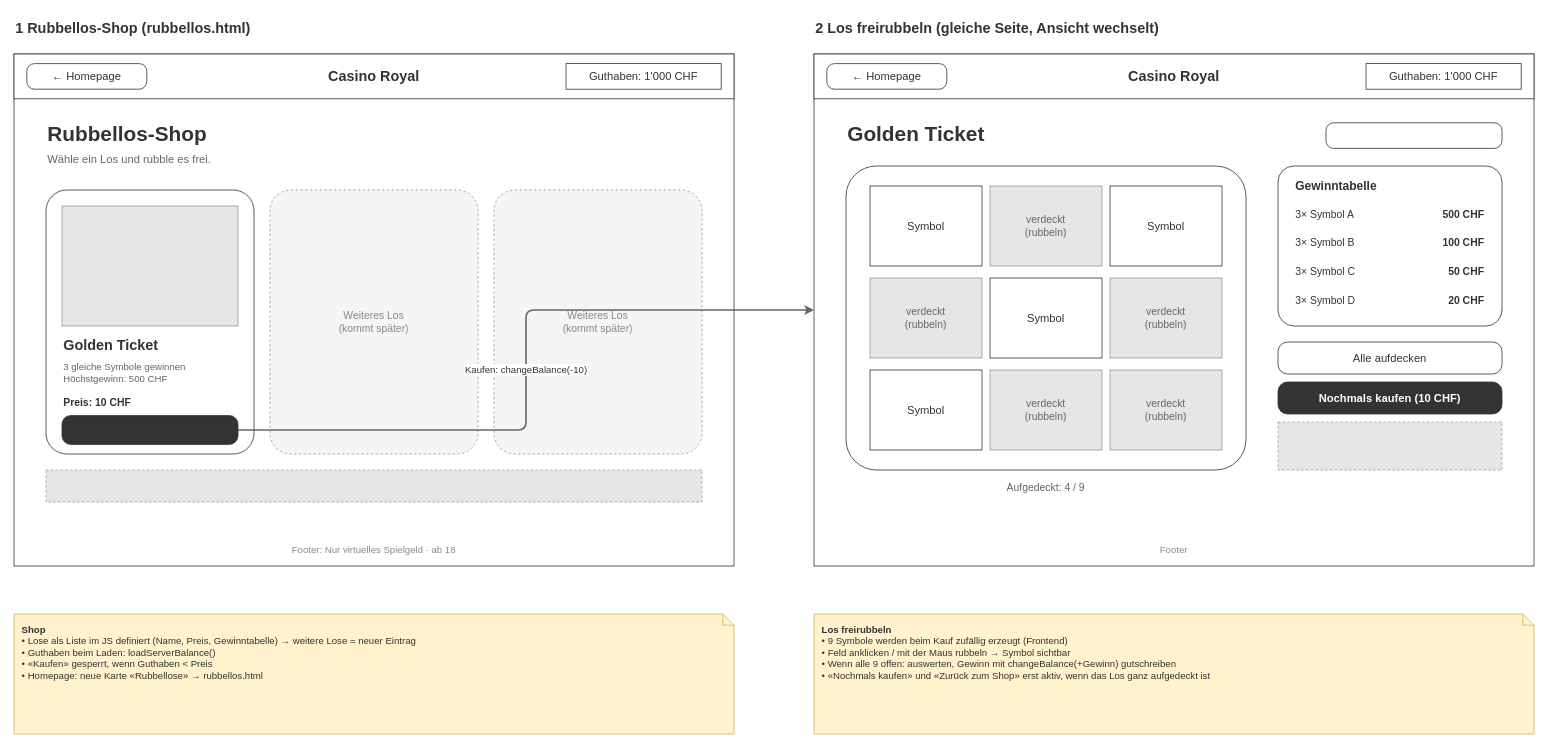
This 1548x748 diagram has some shape labels left out. The shapes that lost their labels are listed below. From the top down, each one's box as (x1, y1, x2, y2) in pixels, then its label:
(1325, 122, 1502, 148): ← Zurück zum Shop
(61, 205, 238, 326): Bild Los
(61, 415, 238, 444): Kaufen
(1277, 421, 1502, 470): Ergebnis: «50 CHF gewonnen!» / «Leider kein Gewinn»
(45, 469, 702, 502): Meldung, z.B. «Nicht genügend Guthaben»
